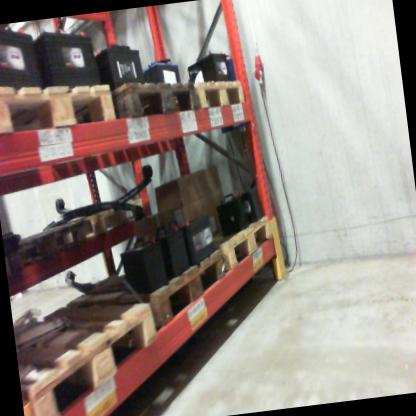pallet: (11, 282, 170, 416), (61, 241, 237, 344), (0, 184, 153, 296), (0, 65, 124, 148), (78, 72, 203, 152), (179, 209, 283, 303), (188, 69, 251, 124)
